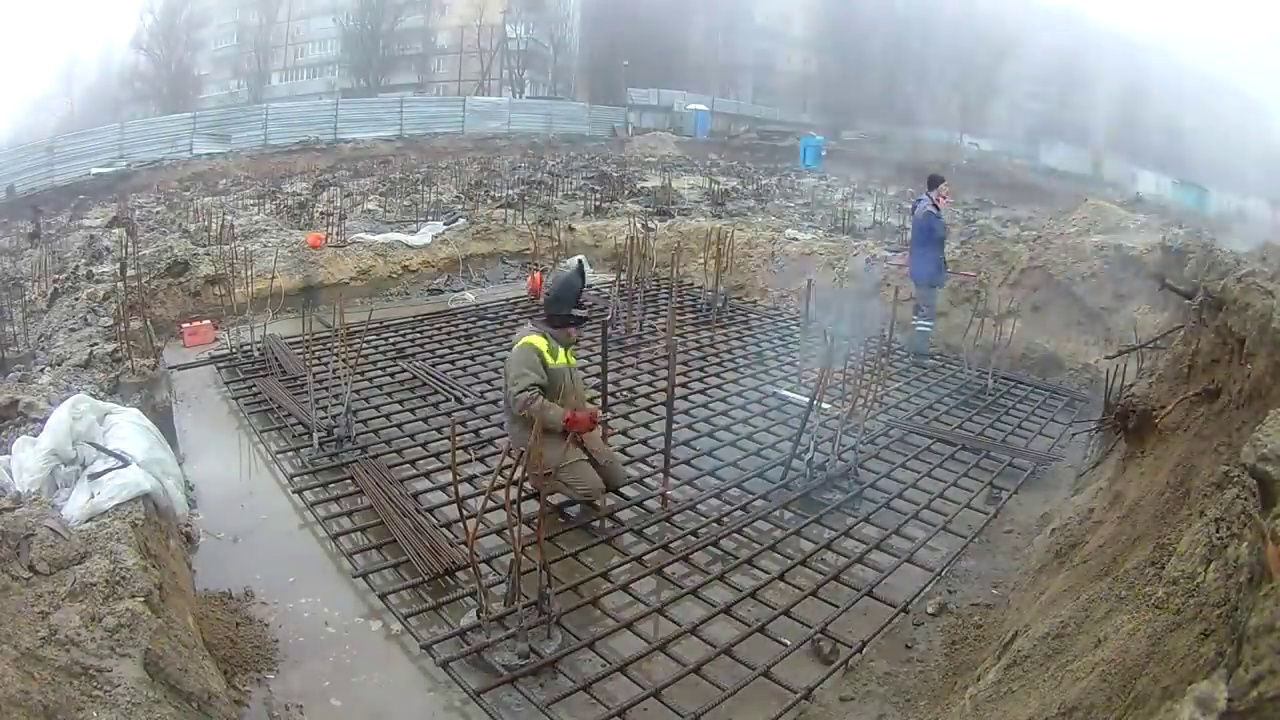helmet: (526, 270, 541, 301)
helmet-off: (541, 259, 591, 350), (926, 174, 948, 199)
person: (500, 252, 625, 552), (906, 167, 955, 367)
